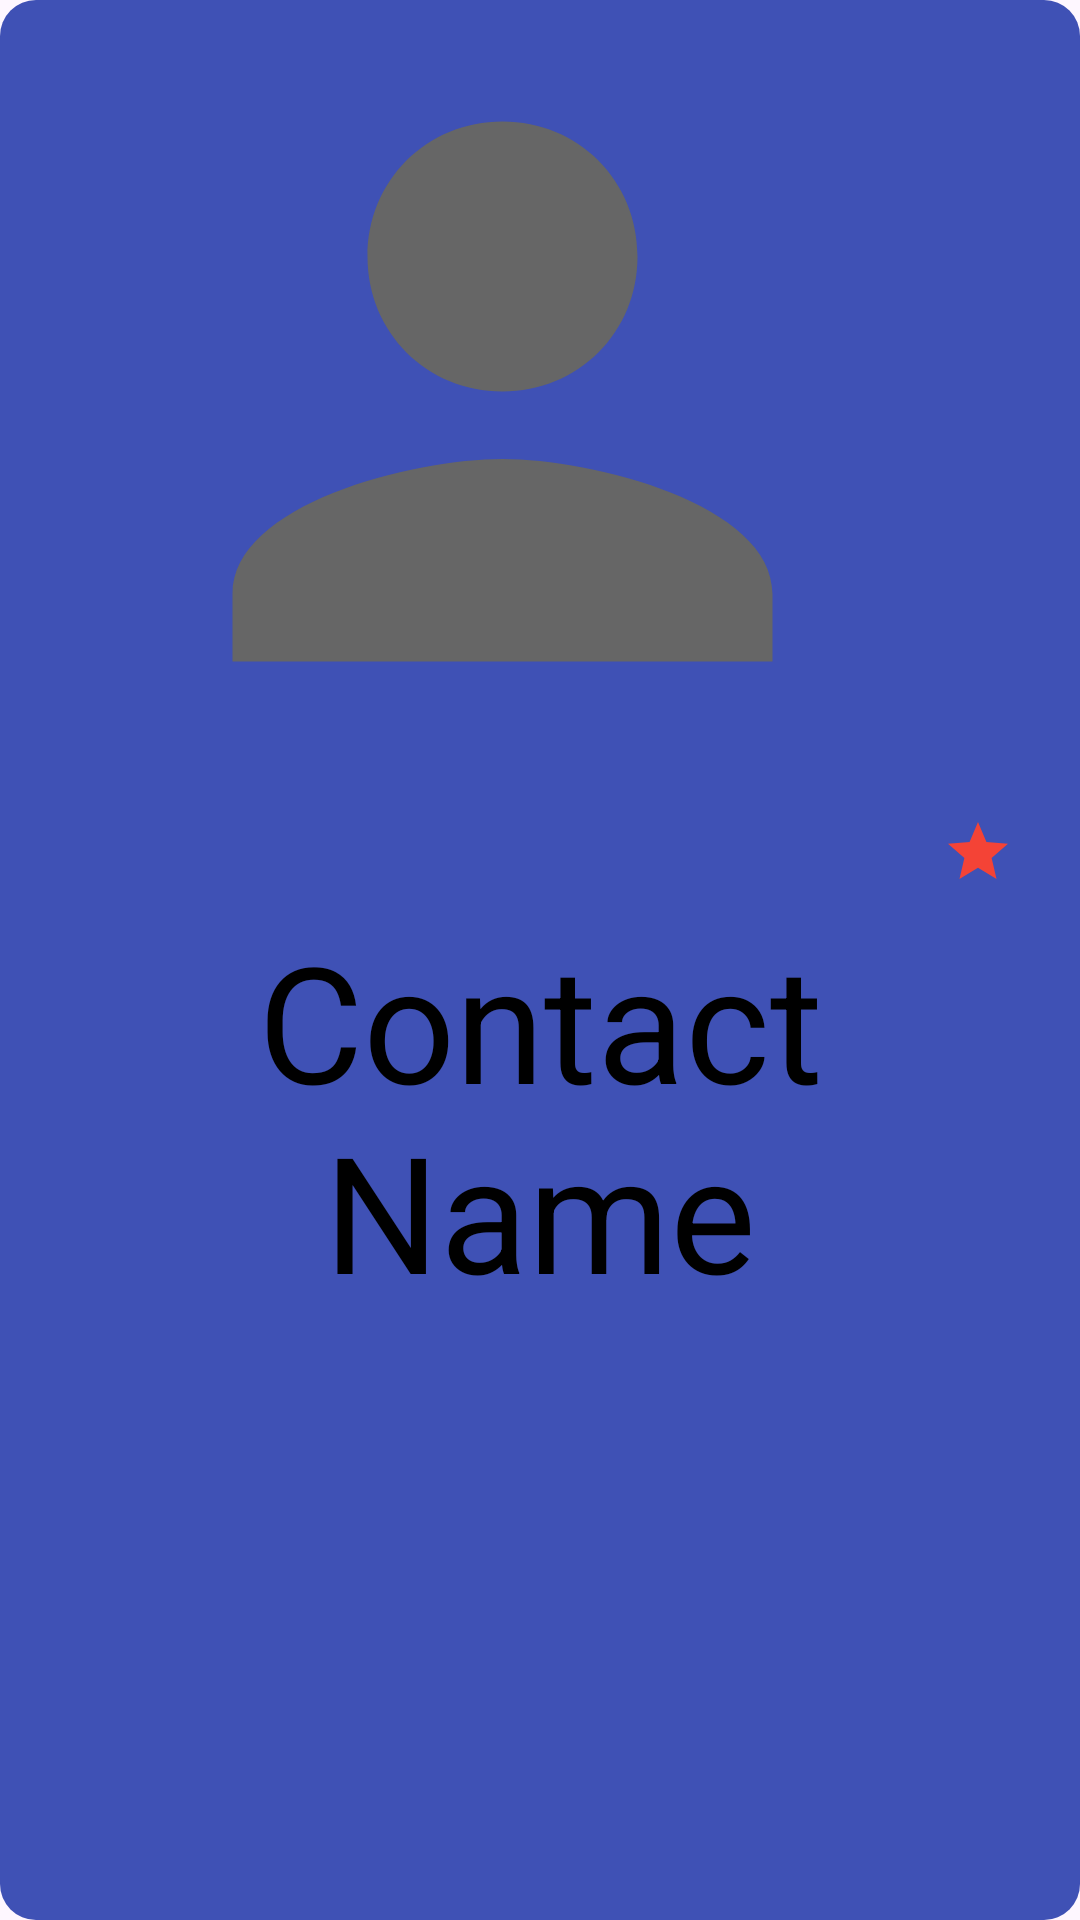

Icons on this 1080×1920 Android screen, each with the point to tap as [x,y]:
star: [978,850]
